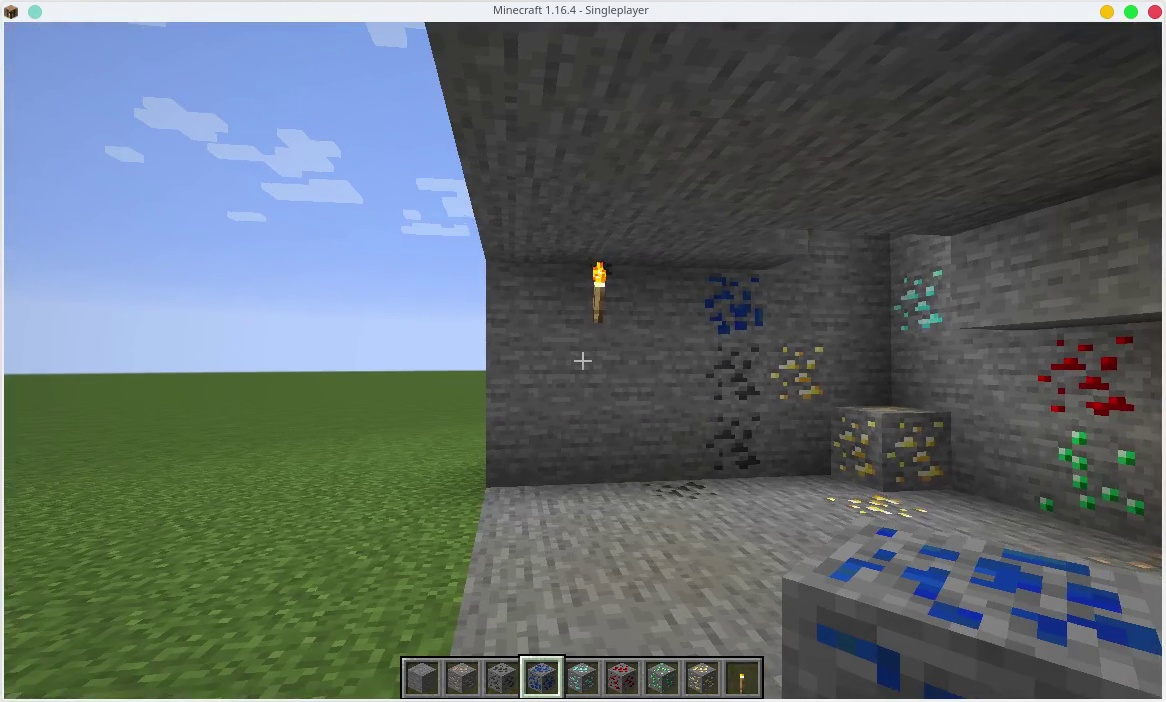gold: (831, 398, 954, 483), (818, 487, 940, 521), (763, 340, 825, 397), (683, 660, 715, 695)
